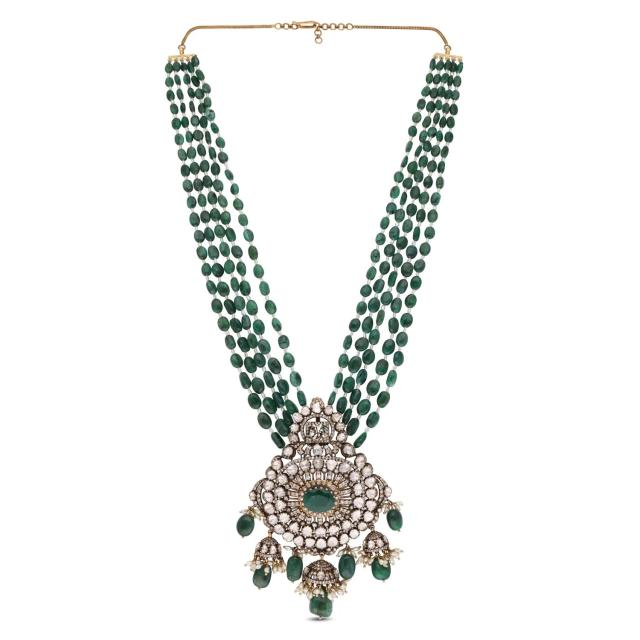missing gem: (307, 425, 328, 440)
